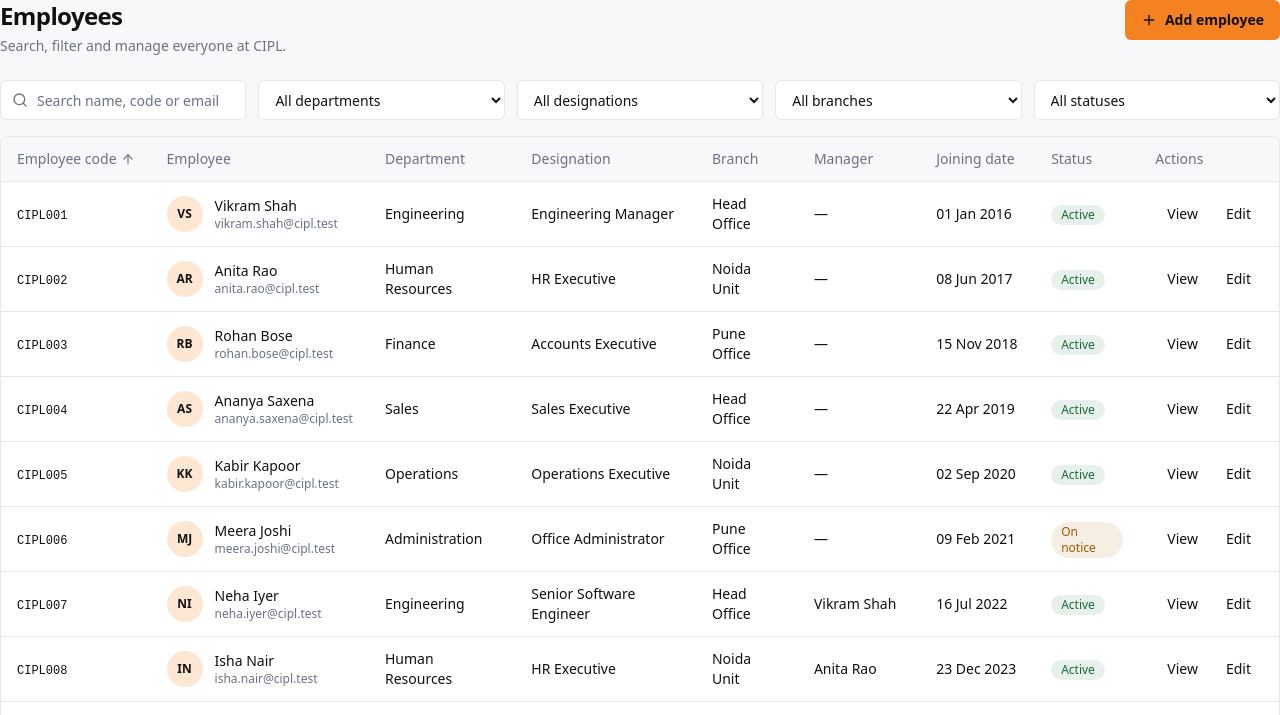
Scenario: EmployeesPage › searches by employee code
Type "CIPL017" into the search field named "Search employees" at (123, 100), box [0,80,246,120]
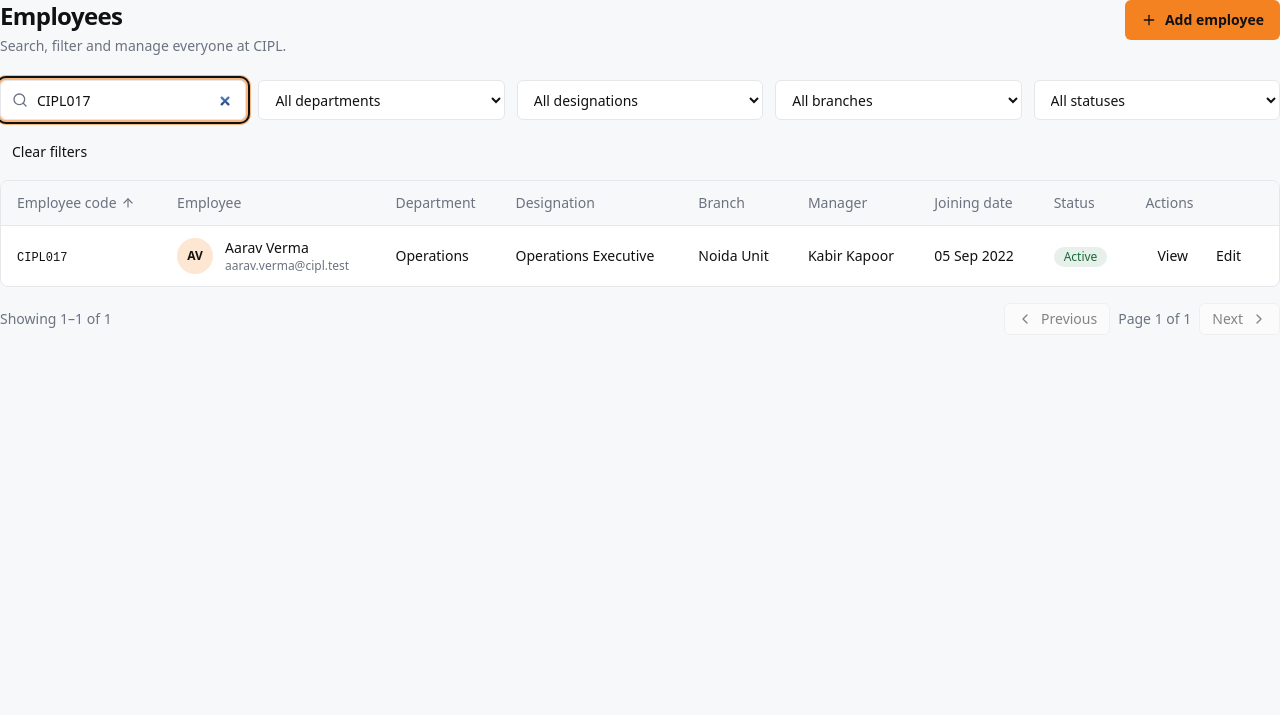
Expected: the text "Showing 1–1 of 1" is shown, [0,309,112,329]
Expected: the text "CIPL017" is shown, [17,251,67,265]
Expected: the text "CIPL001" is gone
